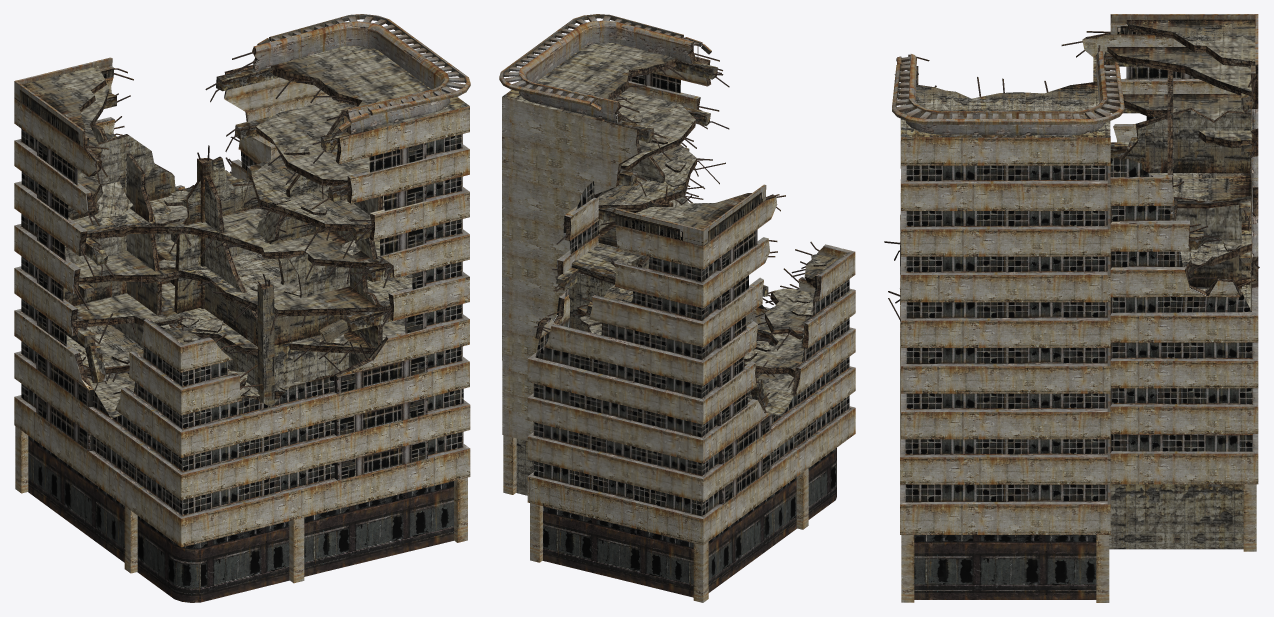
Rendered from buildings_03_ruin.FBX.
The picture shows the model from 3 angles, left to right: view 1: azimuth 30°, elevation 25°; view 2: azimuth 150°, elevation 25°; view 3: azimuth 270°, elevation 25°; orthographic projection. The views are drawn at different scales.
Parts seen in each view (by area): view 1: Object009; view 2: Object009; view 3: Object009.
Part boxes in pixels (box(x1,y1,x2,y2)): Object009: box(14, 14, 470, 602); Object009: box(499, 14, 855, 602); Object009: box(884, 14, 1259, 602).
Bounding box in the file's own units: 2473 × 2479 × 3558.
Materials: 1 (1 with a texture image).
